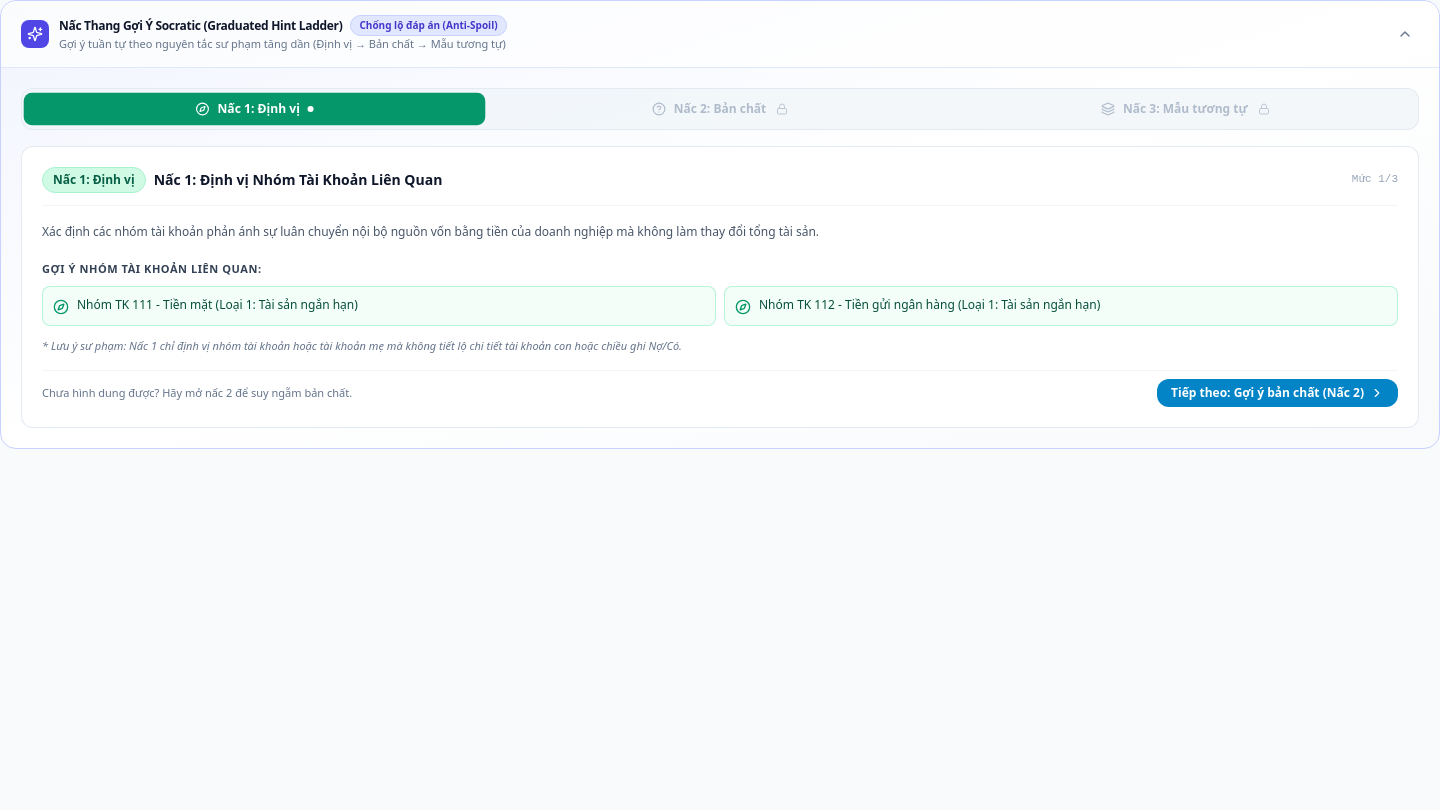
Scenario: TIER 5 ADVERSARIAL WHITE-BOX CHALLENGE SUITE › Battery 6: Milestone 6 R1-R5 Whitebox Internals & Architectural Invariants › 6.2 R2: Socratic Hint Ladder Anti-Spoil Progressive Gating & Twin Balance › should enforce strict sequential unlock: Level 1 -> Level 2 -> Level 3
expect the element with test id "level-1-content" is shown: met, box [42,257,1398,354]
expect the button with test id "hint-step-button-2" is disabled: met, box [491,92,949,124]
Note: Clicking unlock next opens Level 2
Click the button with test id "unlock-level-2-button".
click(1278, 393)  # box [1157,379,1398,407]
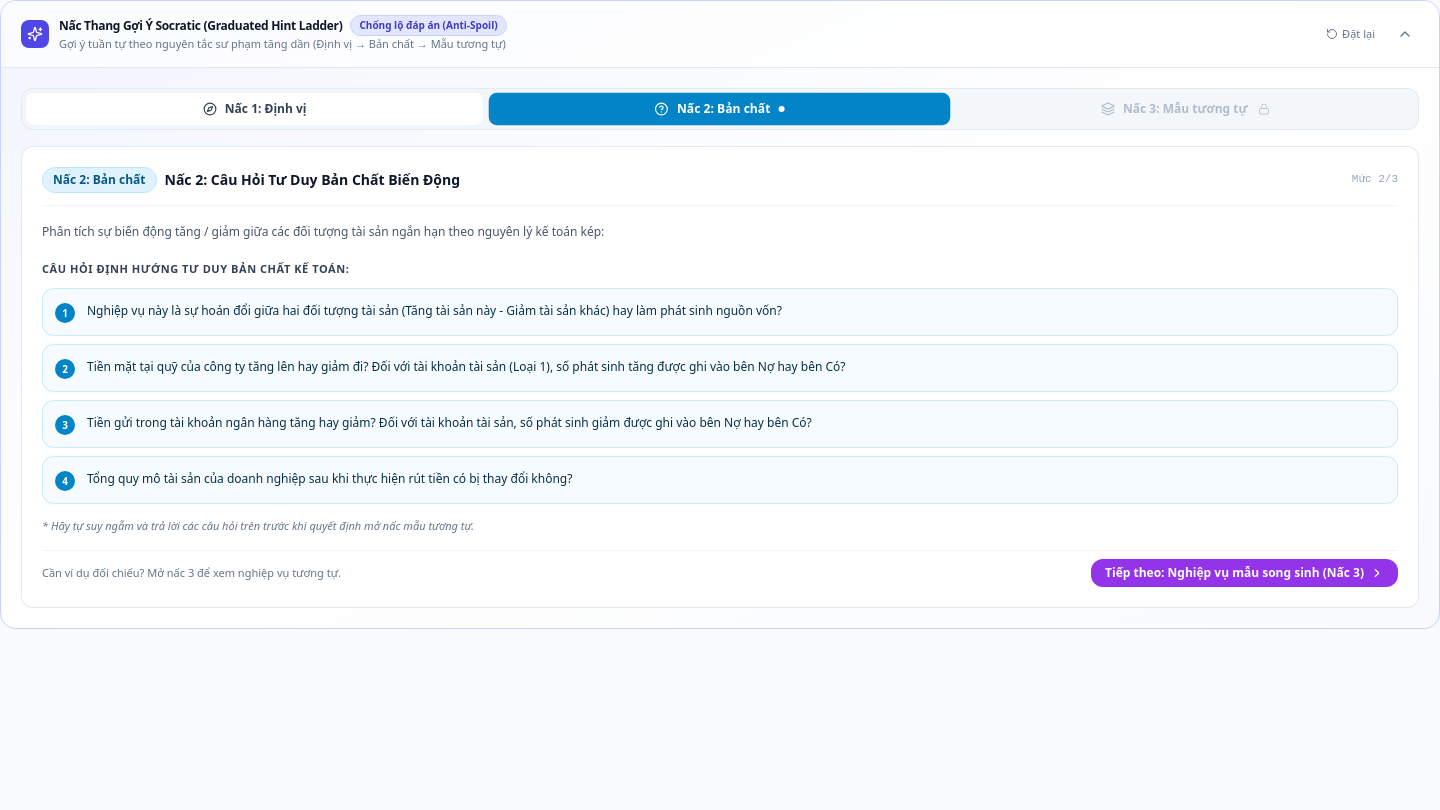
expect the element with test id "level-2-content" is shown: met, box [42,257,1398,534]
expect the element with test id "level-1-content" is gone: met
expect the button with test id "hint-step-button-2" is enabled: met, box [489,92,951,125]
Note: Clicking unlock next opens Level 3
Click the button with test id "unlock-level-3-button".
click(1244, 573)  # box [1091,559,1398,587]
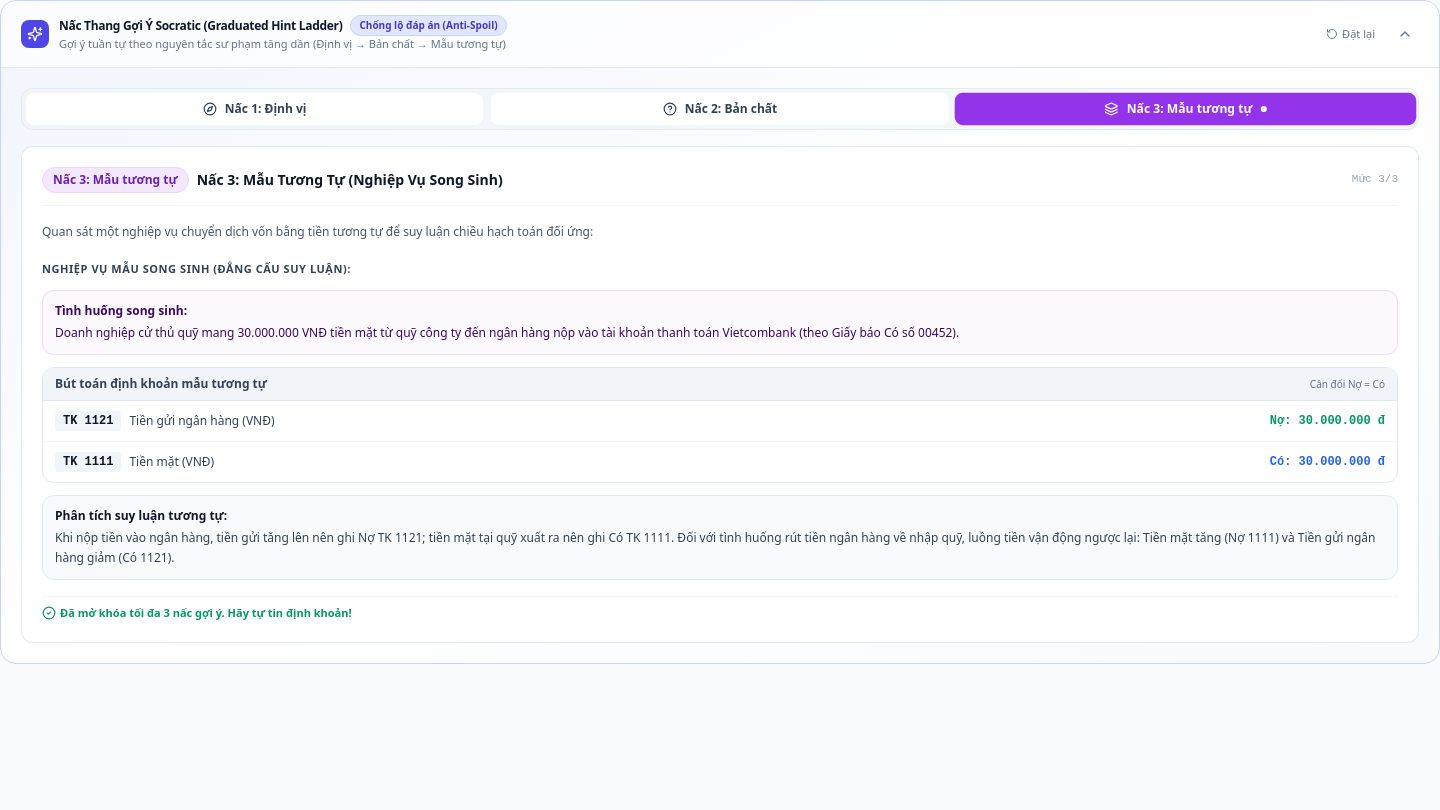
expect the element with test id "level-3-content" is shown: met, box [42,257,1398,580]
expect the element with test id "level-2-content" is gone: met
expect the button with test id "hint-step-button-3" is enabled: met, box [954,92,1416,125]
